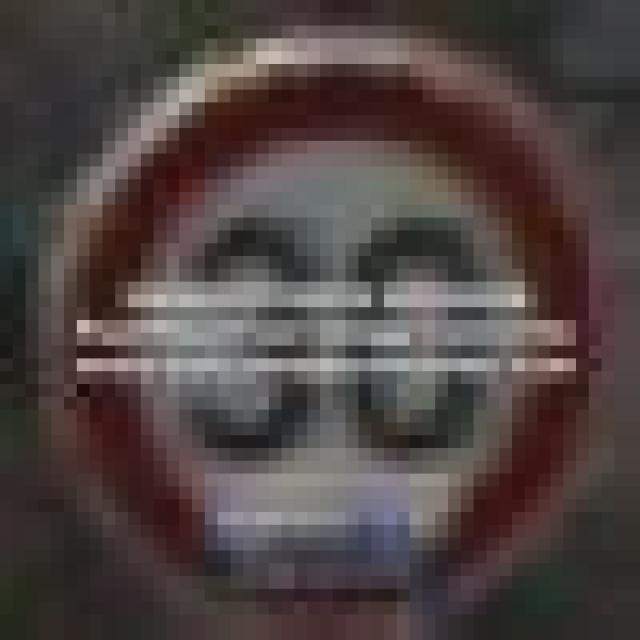SPEED_LIMIT_30: (26, 26, 602, 602)
